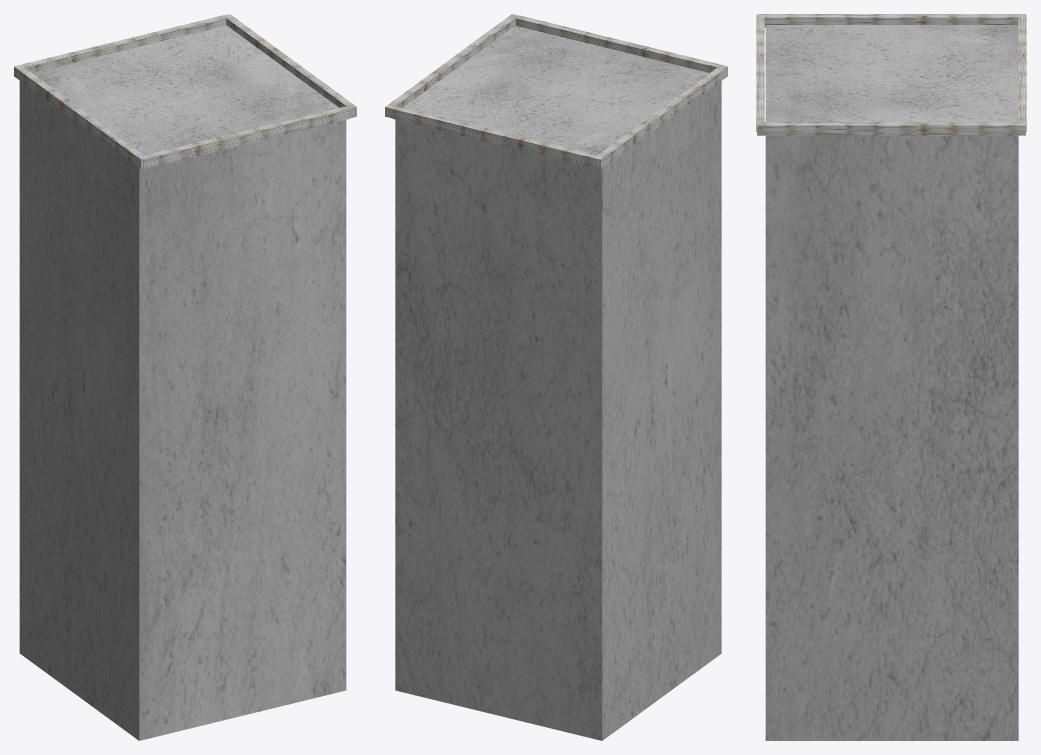
The model's file is Immeuble.glb.
The picture shows the model from 3 angles, left to right: view 1: azimuth 30°, elevation 25°; view 2: azimuth 150°, elevation 25°; view 3: azimuth 270°, elevation 25°; orthographic projection. The views are drawn at different scales.
Parts seen in each view (by area): view 1: Cube, Cube.005, Cube.004, Cube.003, Cube.001; view 2: Cube, Cube.004, Cube.005, Cube.003, Cube.001; view 3: Cube, Cube.001, Cube.003, Cube.004, Cube.005.
Part boxes in pixels (bbox=[...]): Cube: bbox=[19, 25, 346, 740]; Cube.005: bbox=[140, 106, 350, 169]; Cube.004: bbox=[15, 15, 226, 72]; Cube.003: bbox=[14, 65, 145, 169]; Cube.001: bbox=[223, 14, 356, 118]; Cube: bbox=[395, 25, 721, 740]; Cube.004: bbox=[392, 106, 602, 168]; Cube.005: bbox=[515, 15, 726, 72]; Cube.003: bbox=[594, 65, 727, 169]; Cube.001: bbox=[385, 14, 518, 118]; Cube: bbox=[765, 25, 1018, 740]; Cube.001: bbox=[757, 122, 1025, 135]; Cube.003: bbox=[757, 14, 1025, 27]; Cube.004: bbox=[1018, 15, 1026, 131]; Cube.005: bbox=[756, 15, 764, 131].
Bounding box in the file's own units: 62.56 × 162 × 64.15.
Materials: 5 (5 with a texture image).
